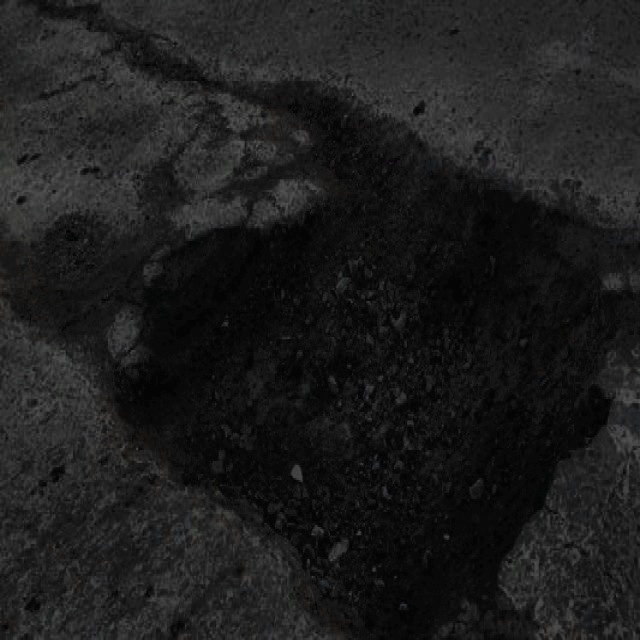Pothole: (111, 85, 618, 638)
